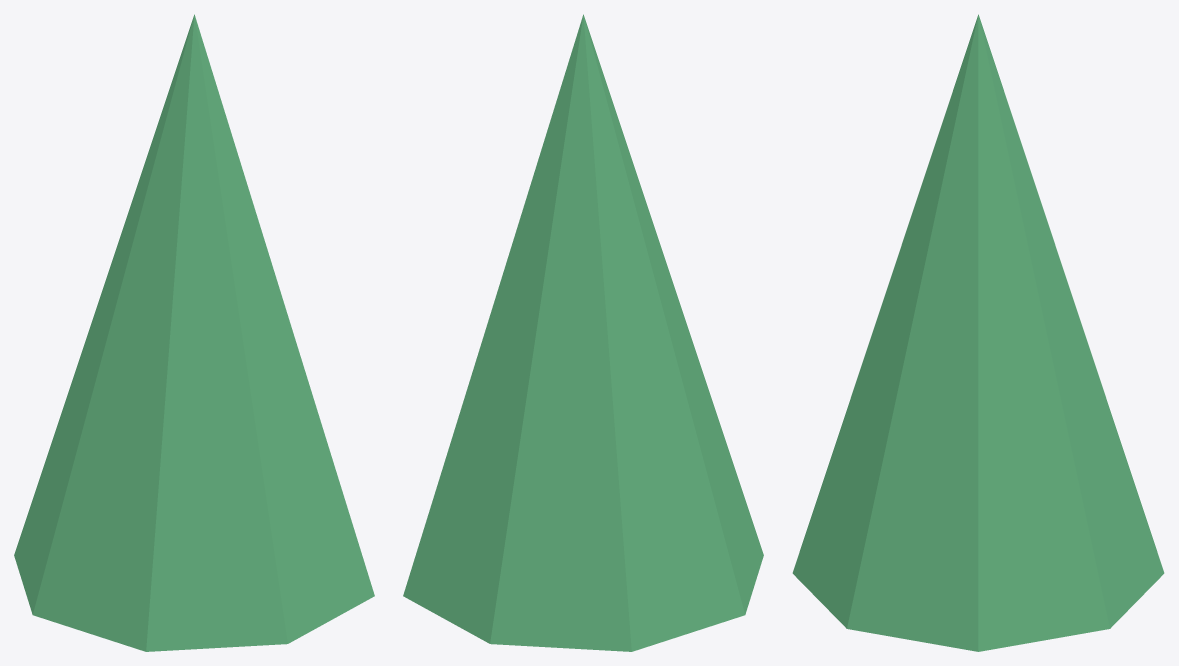
The model's file is pine.glb.
3 views of the same model, side by side, from view 1: azimuth 30°, elevation 25°; view 2: azimuth 150°, elevation 25°; view 3: azimuth 270°, elevation 25° (orthographic).
Visible parts, largest first — view 1: Pine; view 2: Pine; view 3: Pine.
Part boxes in pixels (<box>): Pine: <box>14,14,374,651</box>; Pine: <box>403,14,763,651</box>; Pine: <box>792,14,1164,651</box>.
Bounding box in the file's own units: 6.59 × 10.93 × 6.59.
